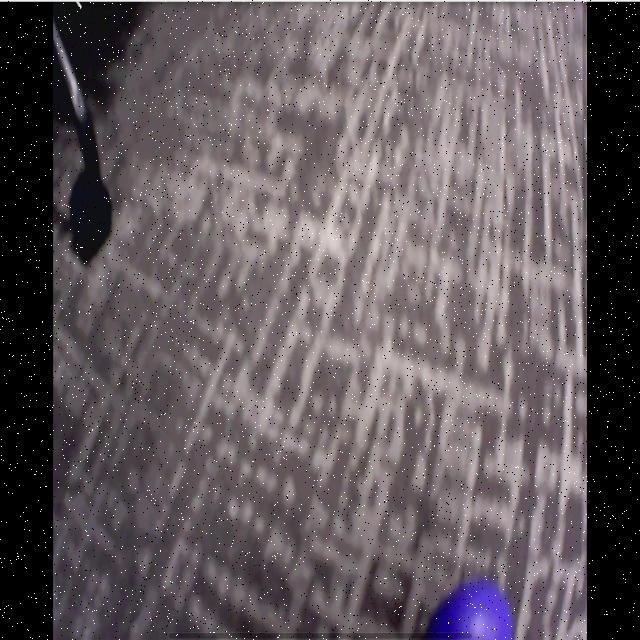ball: (434, 580, 515, 640)
